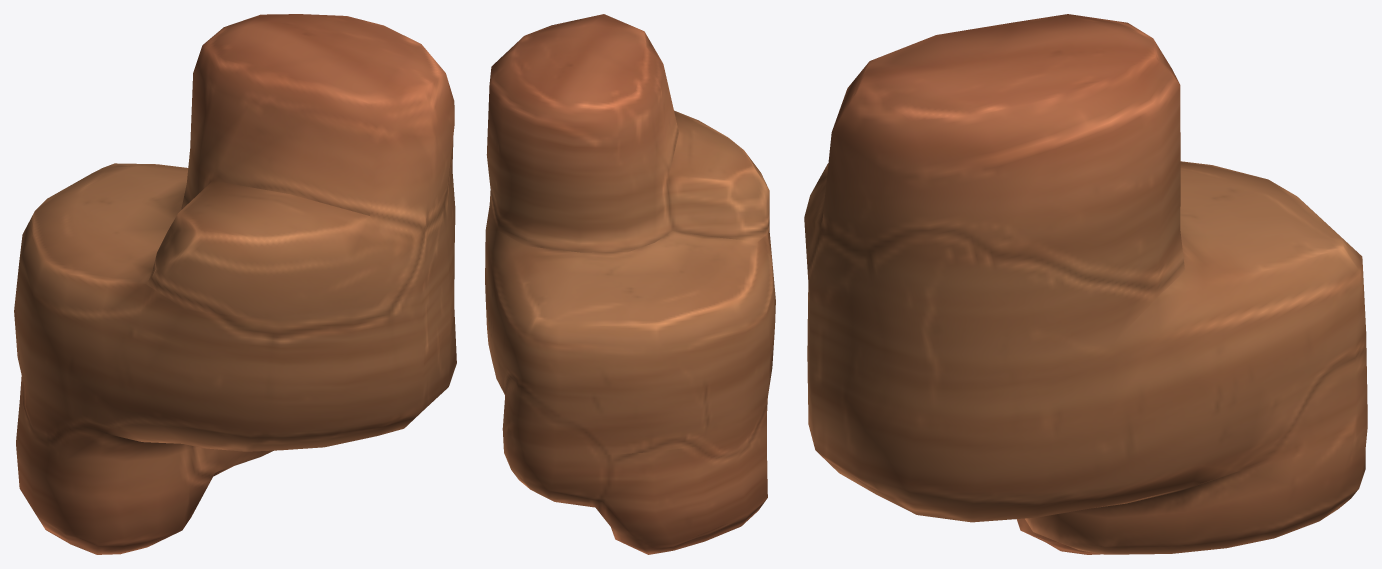
Rendered from Desert_Stone_1.fbx.
The picture shows the model from 3 angles, left to right: view 1: azimuth 30°, elevation 25°; view 2: azimuth 150°, elevation 25°; view 3: azimuth 270°, elevation 25°; orthographic projection. The views are drawn at different scales.
Parts seen in each view (by area): view 1: Desert_Stone_1; view 2: Desert_Stone_1; view 3: Desert_Stone_1.
Part boxes in pixels (<box>): Desert_Stone_1: <box>14,14,456,554</box>; Desert_Stone_1: <box>485,14,775,554</box>; Desert_Stone_1: <box>804,14,1367,554</box>.
Bounding box in the file's own units: 455 × 599 × 521.
